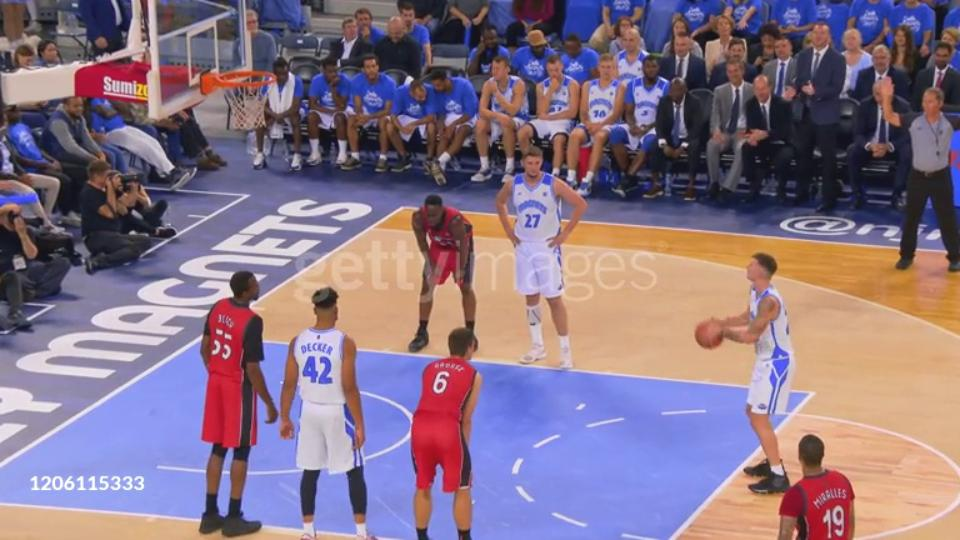hoop: (195, 63, 274, 95)
